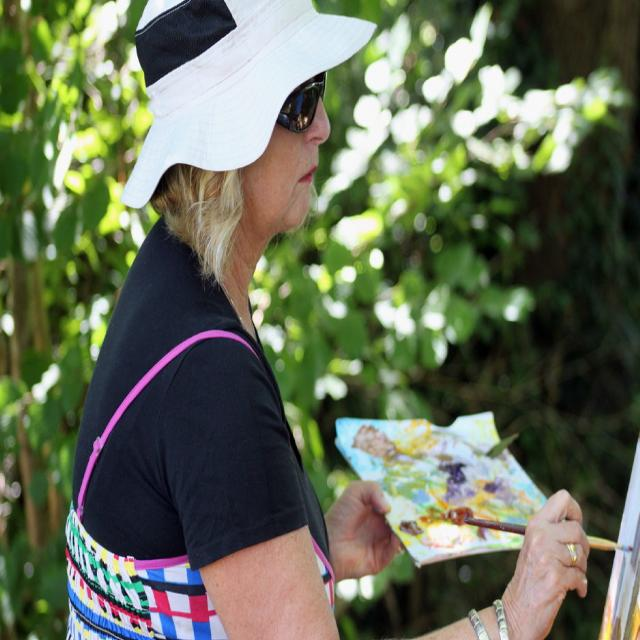Glasses: (279, 70, 327, 136)
